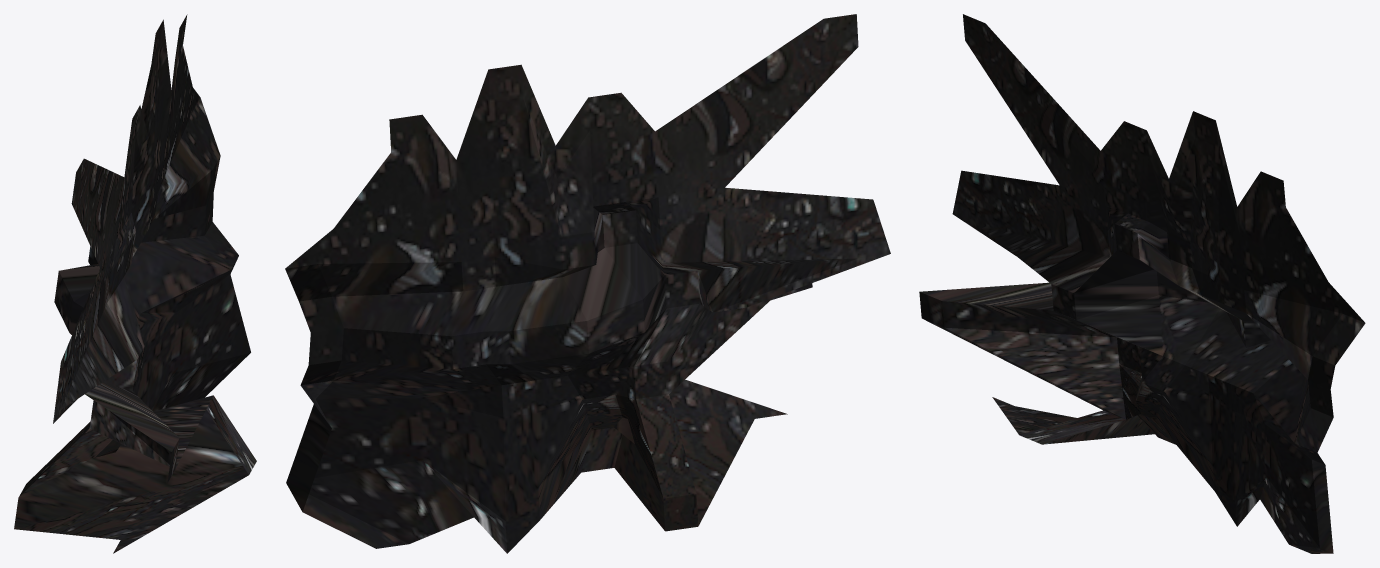
Rendered from DoorBlockingGoop.fbx.
3 views of the same model, side by side, from view 1: azimuth 30°, elevation 25°; view 2: azimuth 150°, elevation 25°; view 3: azimuth 270°, elevation 25° (orthographic). The views are drawn at different scales.
Visible parts, largest first — view 1: Grid.005; view 2: Grid.005; view 3: Grid.005.
Boxes of the visible parts, left/top/right/bottom form: Grid.005: left=14, top=14, right=256, bottom=553; Grid.005: left=285, top=14, right=890, bottom=553; Grid.005: left=919, top=14, right=1365, bottom=553.
Size of the model in its own units: 17.91 by 20.35 by 19.28.
